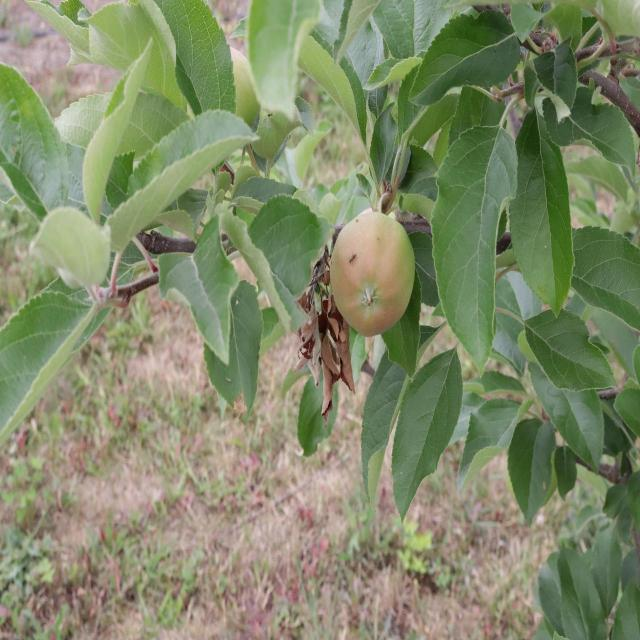-FireBlight-: (302, 257, 353, 413)
